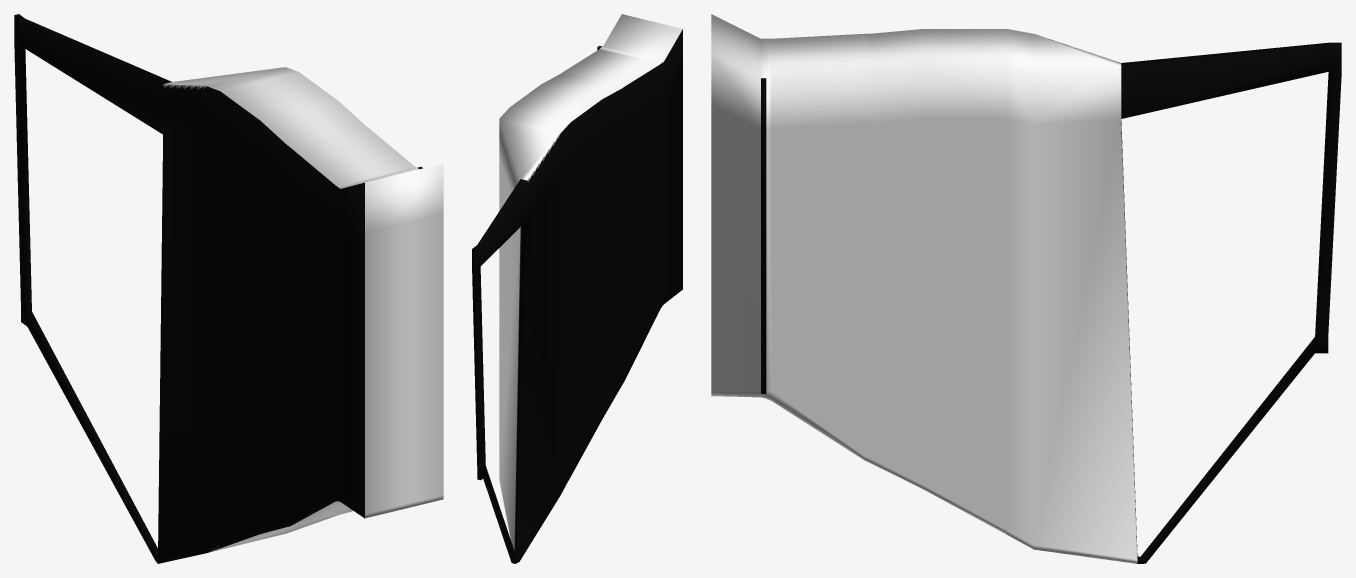
The model's file is Car 1A BDoor Left.fbx.
3 views of the same model, side by side, from view 1: azimuth 30°, elevation 25°; view 2: azimuth 150°, elevation 25°; view 3: azimuth 270°, elevation 25° (orthographic). The views are drawn at different scales.
Parts seen in each view (by area): view 1: 1AU BDoor (3, Baked); view 2: 1AU BDoor (3, Baked); view 3: 1AU BDoor (3, Baked).
Boxes of the visible parts, x1,y1,x2,y2 form: 1AU BDoor (3, Baked): (14, 14, 443, 563); 1AU BDoor (3, Baked): (472, 14, 682, 563); 1AU BDoor (3, Baked): (711, 14, 1341, 563).
Size of the model in its own units: 27 by 110 by 116.
